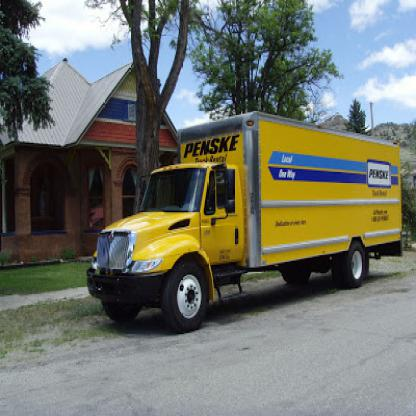normal-truck: (88, 98, 415, 319)
